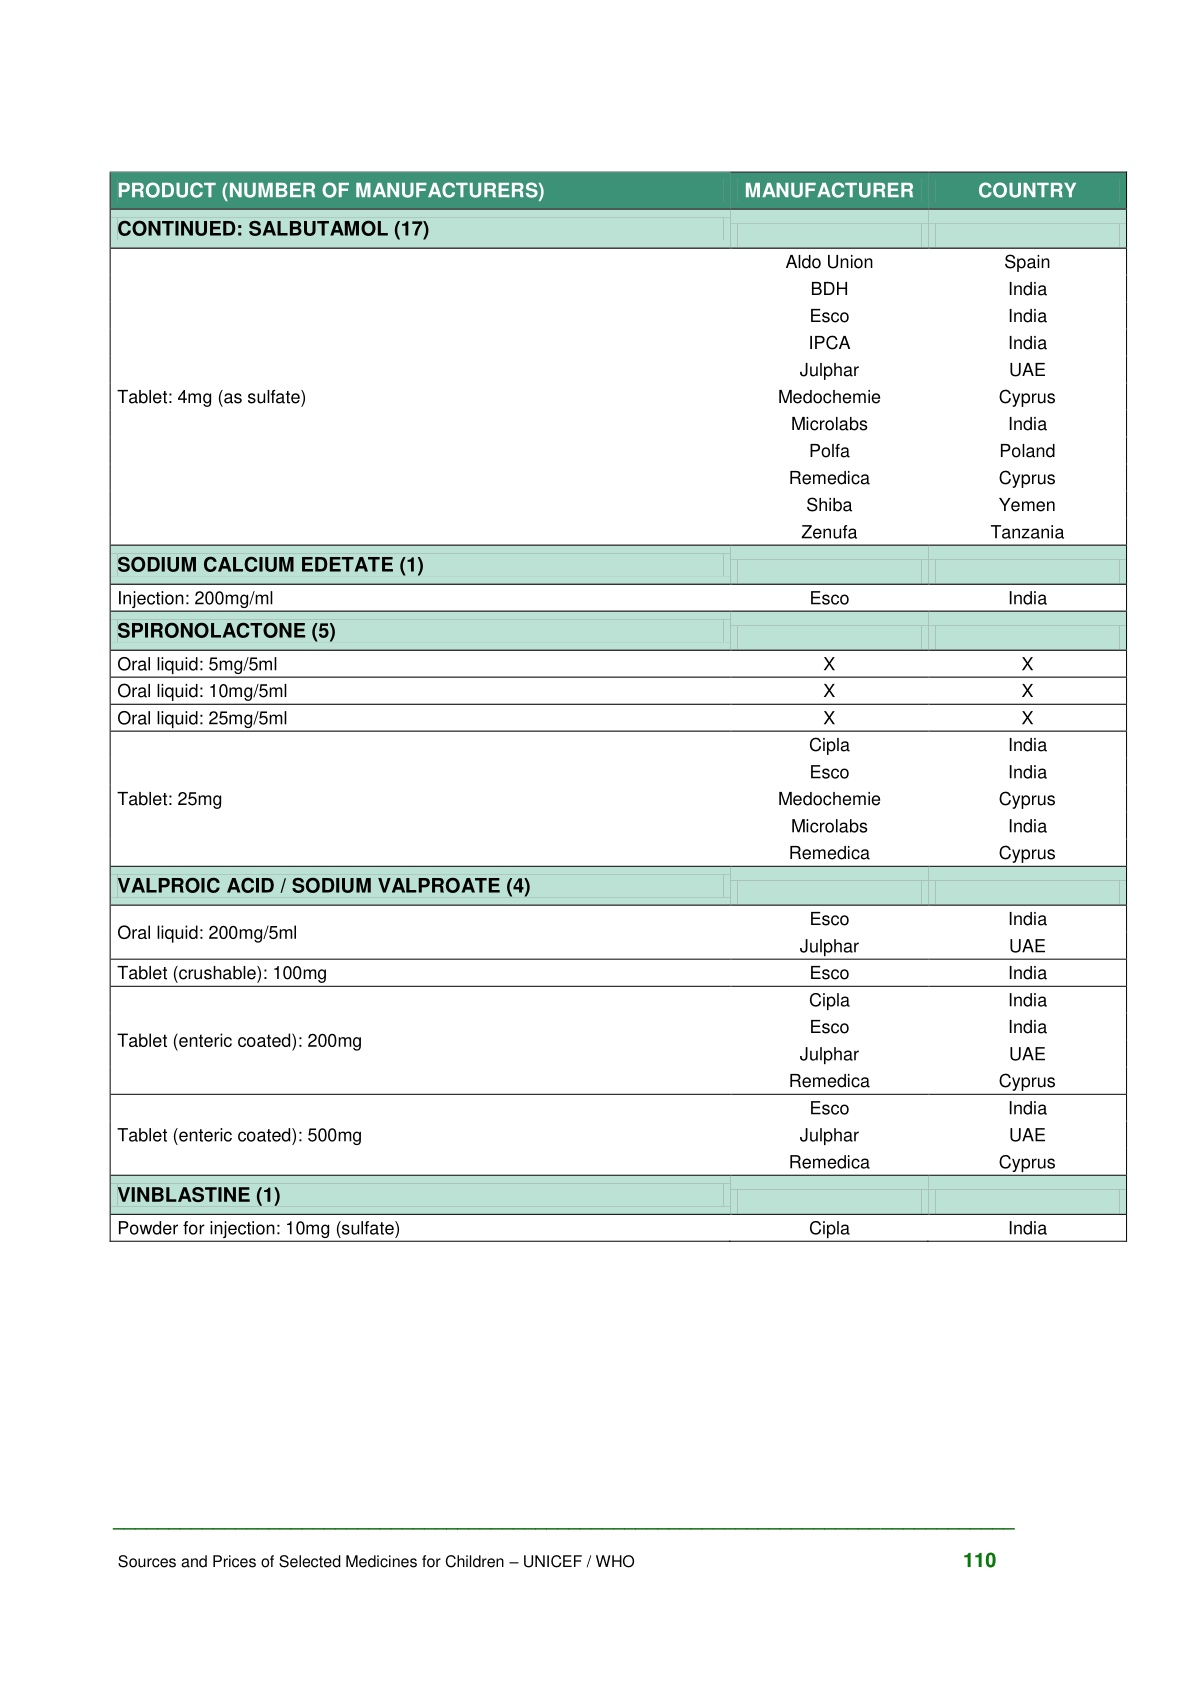partial_lined_merged_cells: (106, 167, 1129, 1245)
